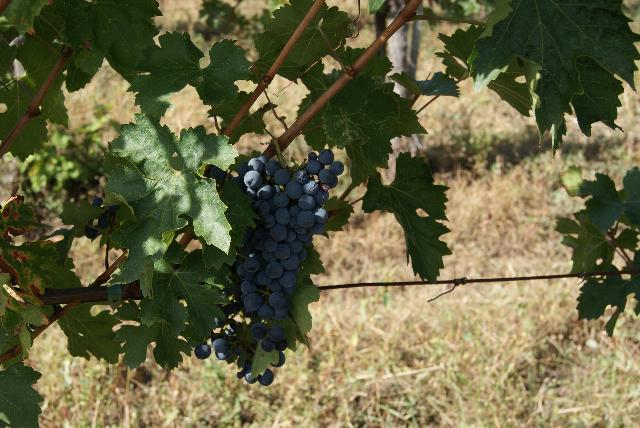grapes: (230, 149, 344, 352)
